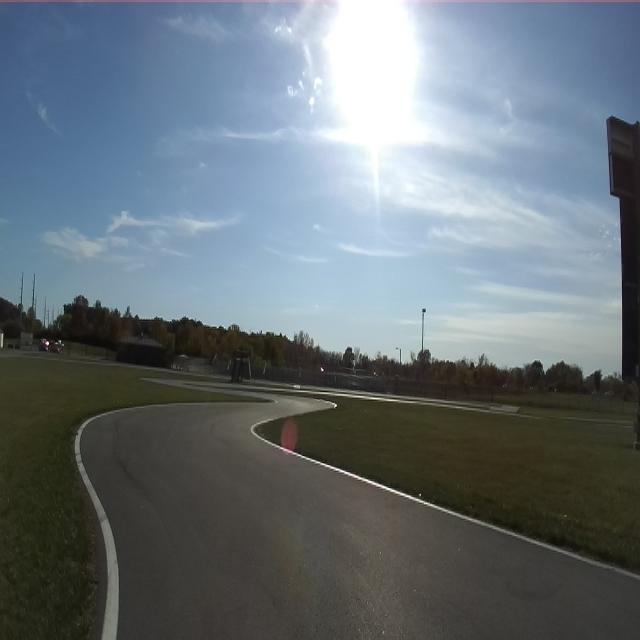white-line: (250, 415, 640, 580), (72, 403, 204, 639), (330, 401, 337, 407)
